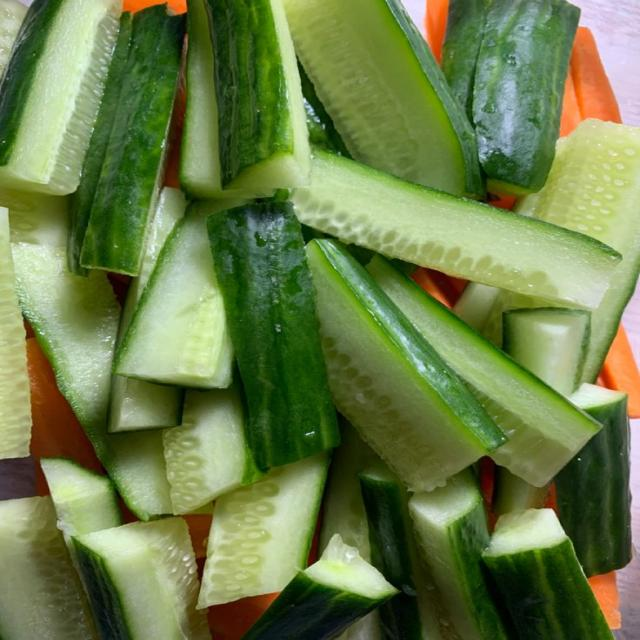cucumber sliced: (368, 257, 599, 486), (291, 151, 620, 307), (307, 240, 506, 489), (13, 243, 171, 519), (286, 0, 483, 195), (207, 202, 339, 469), (515, 120, 639, 382), (80, 5, 185, 275), (0, 0, 120, 195), (114, 201, 233, 388), (473, 0, 579, 195), (199, 454, 327, 608), (209, 0, 310, 192), (180, 0, 273, 198), (409, 472, 512, 639), (67, 12, 132, 275), (483, 509, 612, 639), (74, 518, 210, 639), (244, 535, 397, 639), (555, 384, 632, 576), (360, 465, 439, 639), (0, 497, 93, 639), (164, 388, 261, 513), (119, 188, 186, 339), (40, 458, 121, 572), (319, 420, 379, 561), (320, 419, 379, 561), (0, 207, 31, 459), (502, 308, 590, 396), (503, 308, 590, 396), (40, 458, 121, 547), (441, 0, 490, 121), (299, 61, 350, 156), (9, 194, 69, 247), (492, 466, 550, 515), (454, 282, 501, 334), (0, 0, 27, 76)
